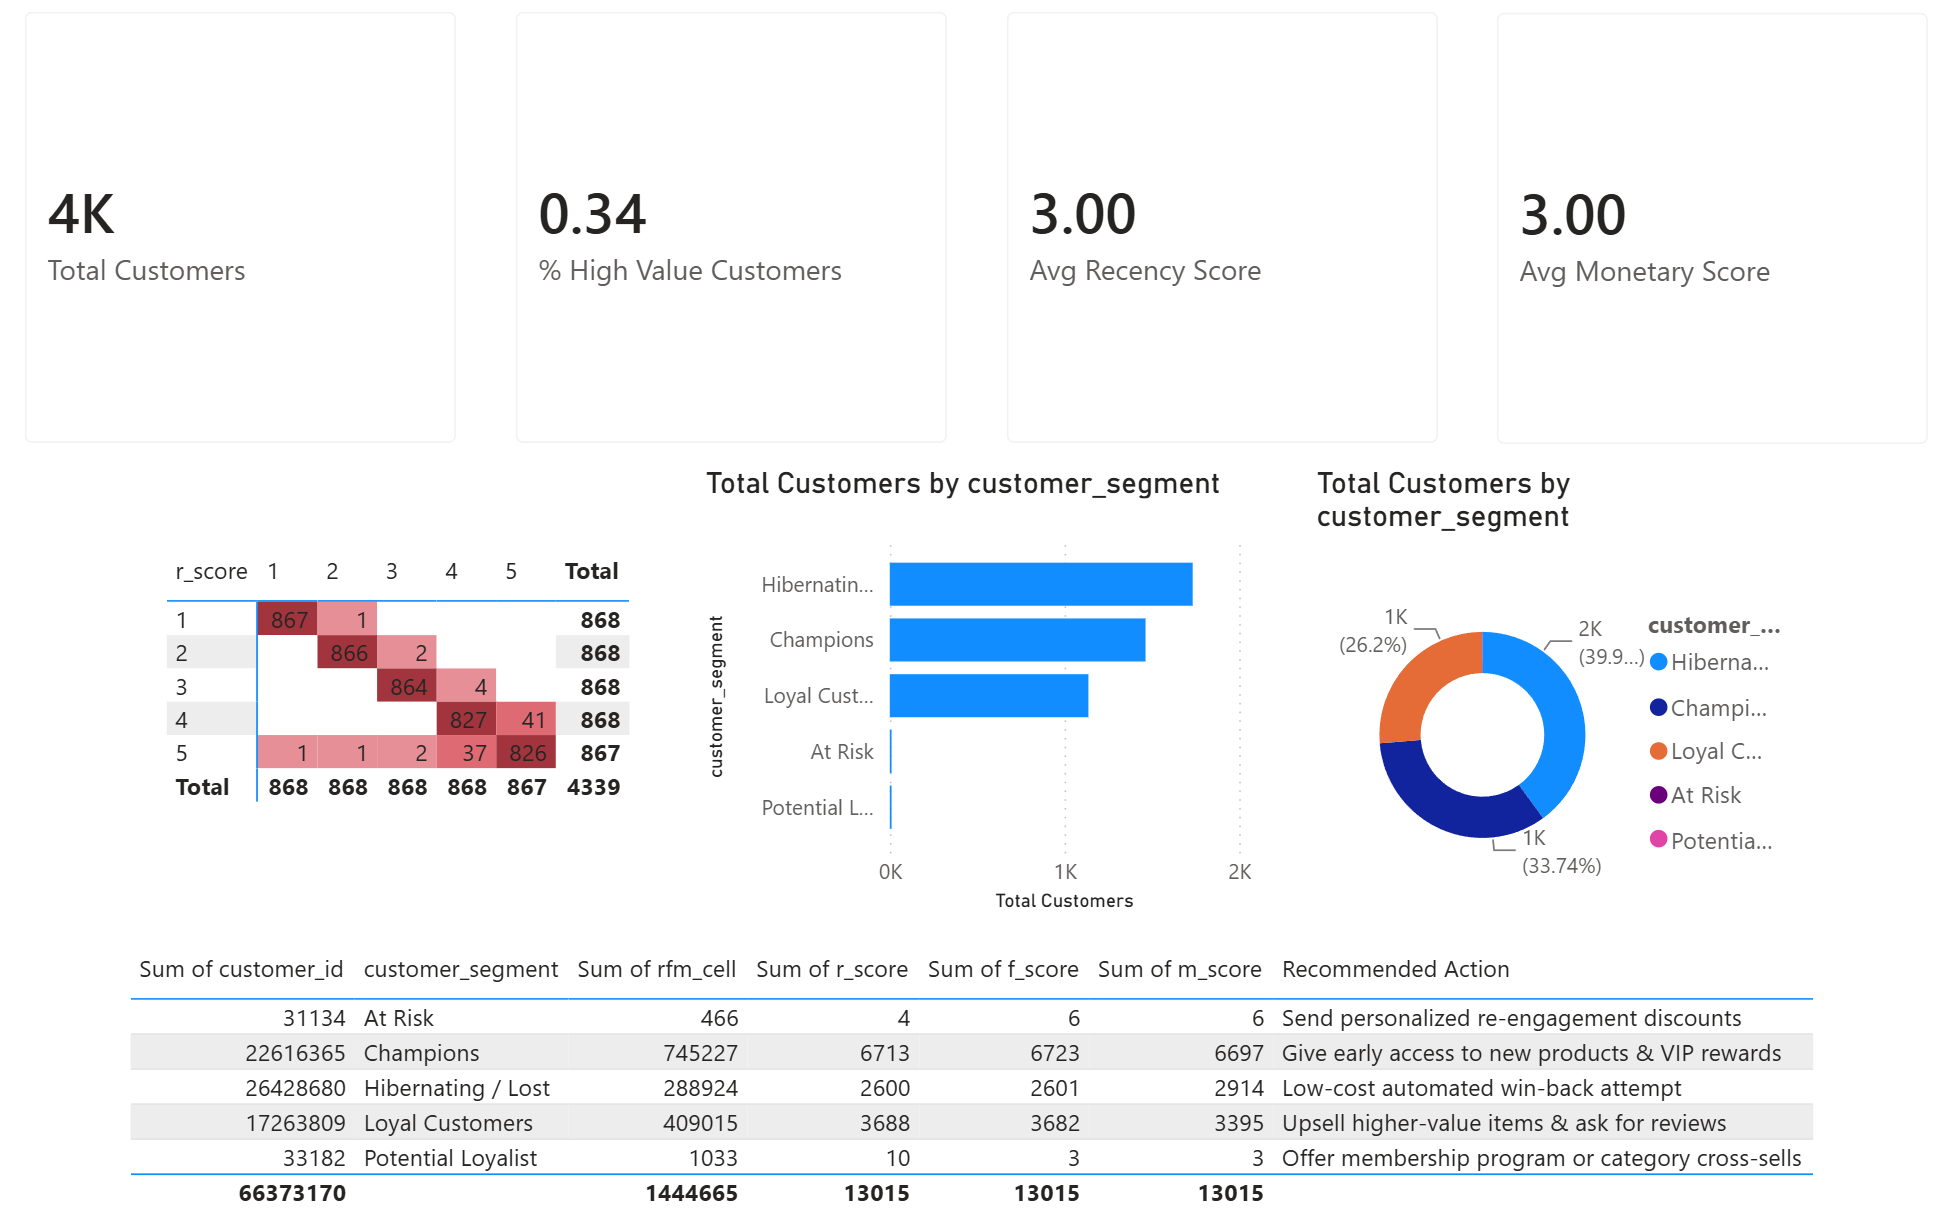

This screenshot's page, from the dashboard's own definition file:
{"tool":"powerbi","page":{"name":"Page 1","canvas":[1280,720],"ordinal":0},"visuals":[{"type":"group","id":"g1","title":"Group 1","box":[80,0,1120.1,280.7],"z":0},{"type":"cardVisual","fields":{"Data":["scored_rfm_preview.Total Customers"]},"box":[80,0,280,280],"z":0,"group":"g1"},{"type":"cardVisual","fields":{"Data":["scored_rfm_preview.% High Value Customers"]},"box":[359.9,0,280,280],"z":1000,"group":"g1"},{"type":"pivotTable","fields":{"Rows":["scored_rfm_preview.r_score"],"Columns":["scored_rfm_preview.f_score"],"Values":["scored_rfm_preview.Total Customers"]},"box":[172.8,320.7,280.1,156.4],"z":1000,"group":"g2"},{"type":"cardVisual","fields":{"Data":["scored_rfm_preview.Avg Recency Score"]},"box":[640,0,280,280],"z":2000,"group":"g1"},{"type":"clusteredBarChart","fields":{"Category":["scored_rfm_preview.customer_segment"],"Y":["scored_rfm_preview.Total Customers"]},"box":[480.4,275.5,321.3,259.1],"z":2000,"group":"g2"},{"type":"donutChart","fields":{"Category":["scored_rfm_preview.customer_segment"],"Y":["scored_rfm_preview.Total Customers"]},"box":[829.2,275.5,280,259],"z":2001,"group":"g2"},{"type":"tableEx","fields":{"Values":["Sum(scored_rfm_preview.customer_id)","scored_rfm_preview.customer_segment","Sum(scored_rfm_preview.rfm_cell)","Sum(scored_rfm_preview.r_score)","Sum(scored_rfm_preview.f_score)","Sum(scored_rfm_preview.m_score)","scored_rfm_preview.Recommended Action"]},"box":[151.2,547.9,977.7,172.1],"z":2002},{"type":"group","id":"g2","title":"Group 2","box":[172.8,275.5,935.8,259.1],"z":2003},{"type":"cardVisual","fields":{"Data":["scored_rfm_preview.Avg Monetary Score"]},"box":[920.1,0.7,280,280],"z":3000,"group":"g1"}]}

Visuals, with their boxes on the page's 1280x720 design canvas (x1, y1, x2, y2). These are canvas units, not pixel positions in the 1954x1209 screenshot, which may show the page scaled, cropped or inside an application window:
"Group 1" group: box(80, 0, 1200, 281)
cardVisual - scored_rfm_preview.Total Customers: box(80, 0, 360, 280)
cardVisual - scored_rfm_preview.% High Value Customers: box(360, 0, 640, 280)
pivotTable - scored_rfm_preview.r_score x scored_rfm_preview.f_score: box(173, 321, 453, 477)
cardVisual - scored_rfm_preview.Avg Recency Score: box(640, 0, 920, 280)
clusteredBarChart - scored_rfm_preview.customer_segment x scored_rfm_preview.Total Customers: box(480, 276, 802, 535)
donutChart - scored_rfm_preview.customer_segment x scored_rfm_preview.Total Customers: box(829, 276, 1109, 534)
tableEx - Sum(scored_rfm_preview.customer_id) x scored_rfm_preview.customer_segment: box(151, 548, 1129, 720)
"Group 2" group: box(173, 276, 1109, 535)
cardVisual - scored_rfm_preview.Avg Monetary Score: box(920, 1, 1200, 281)
